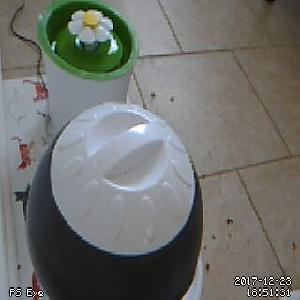fountain: (36, 1, 139, 82)
